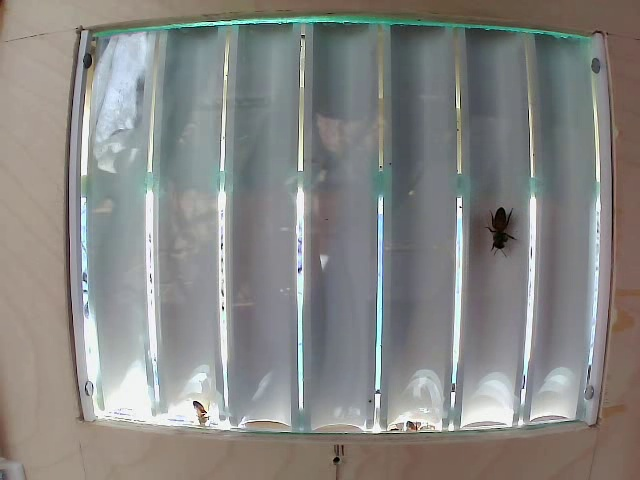bee: (479, 207, 513, 257)
